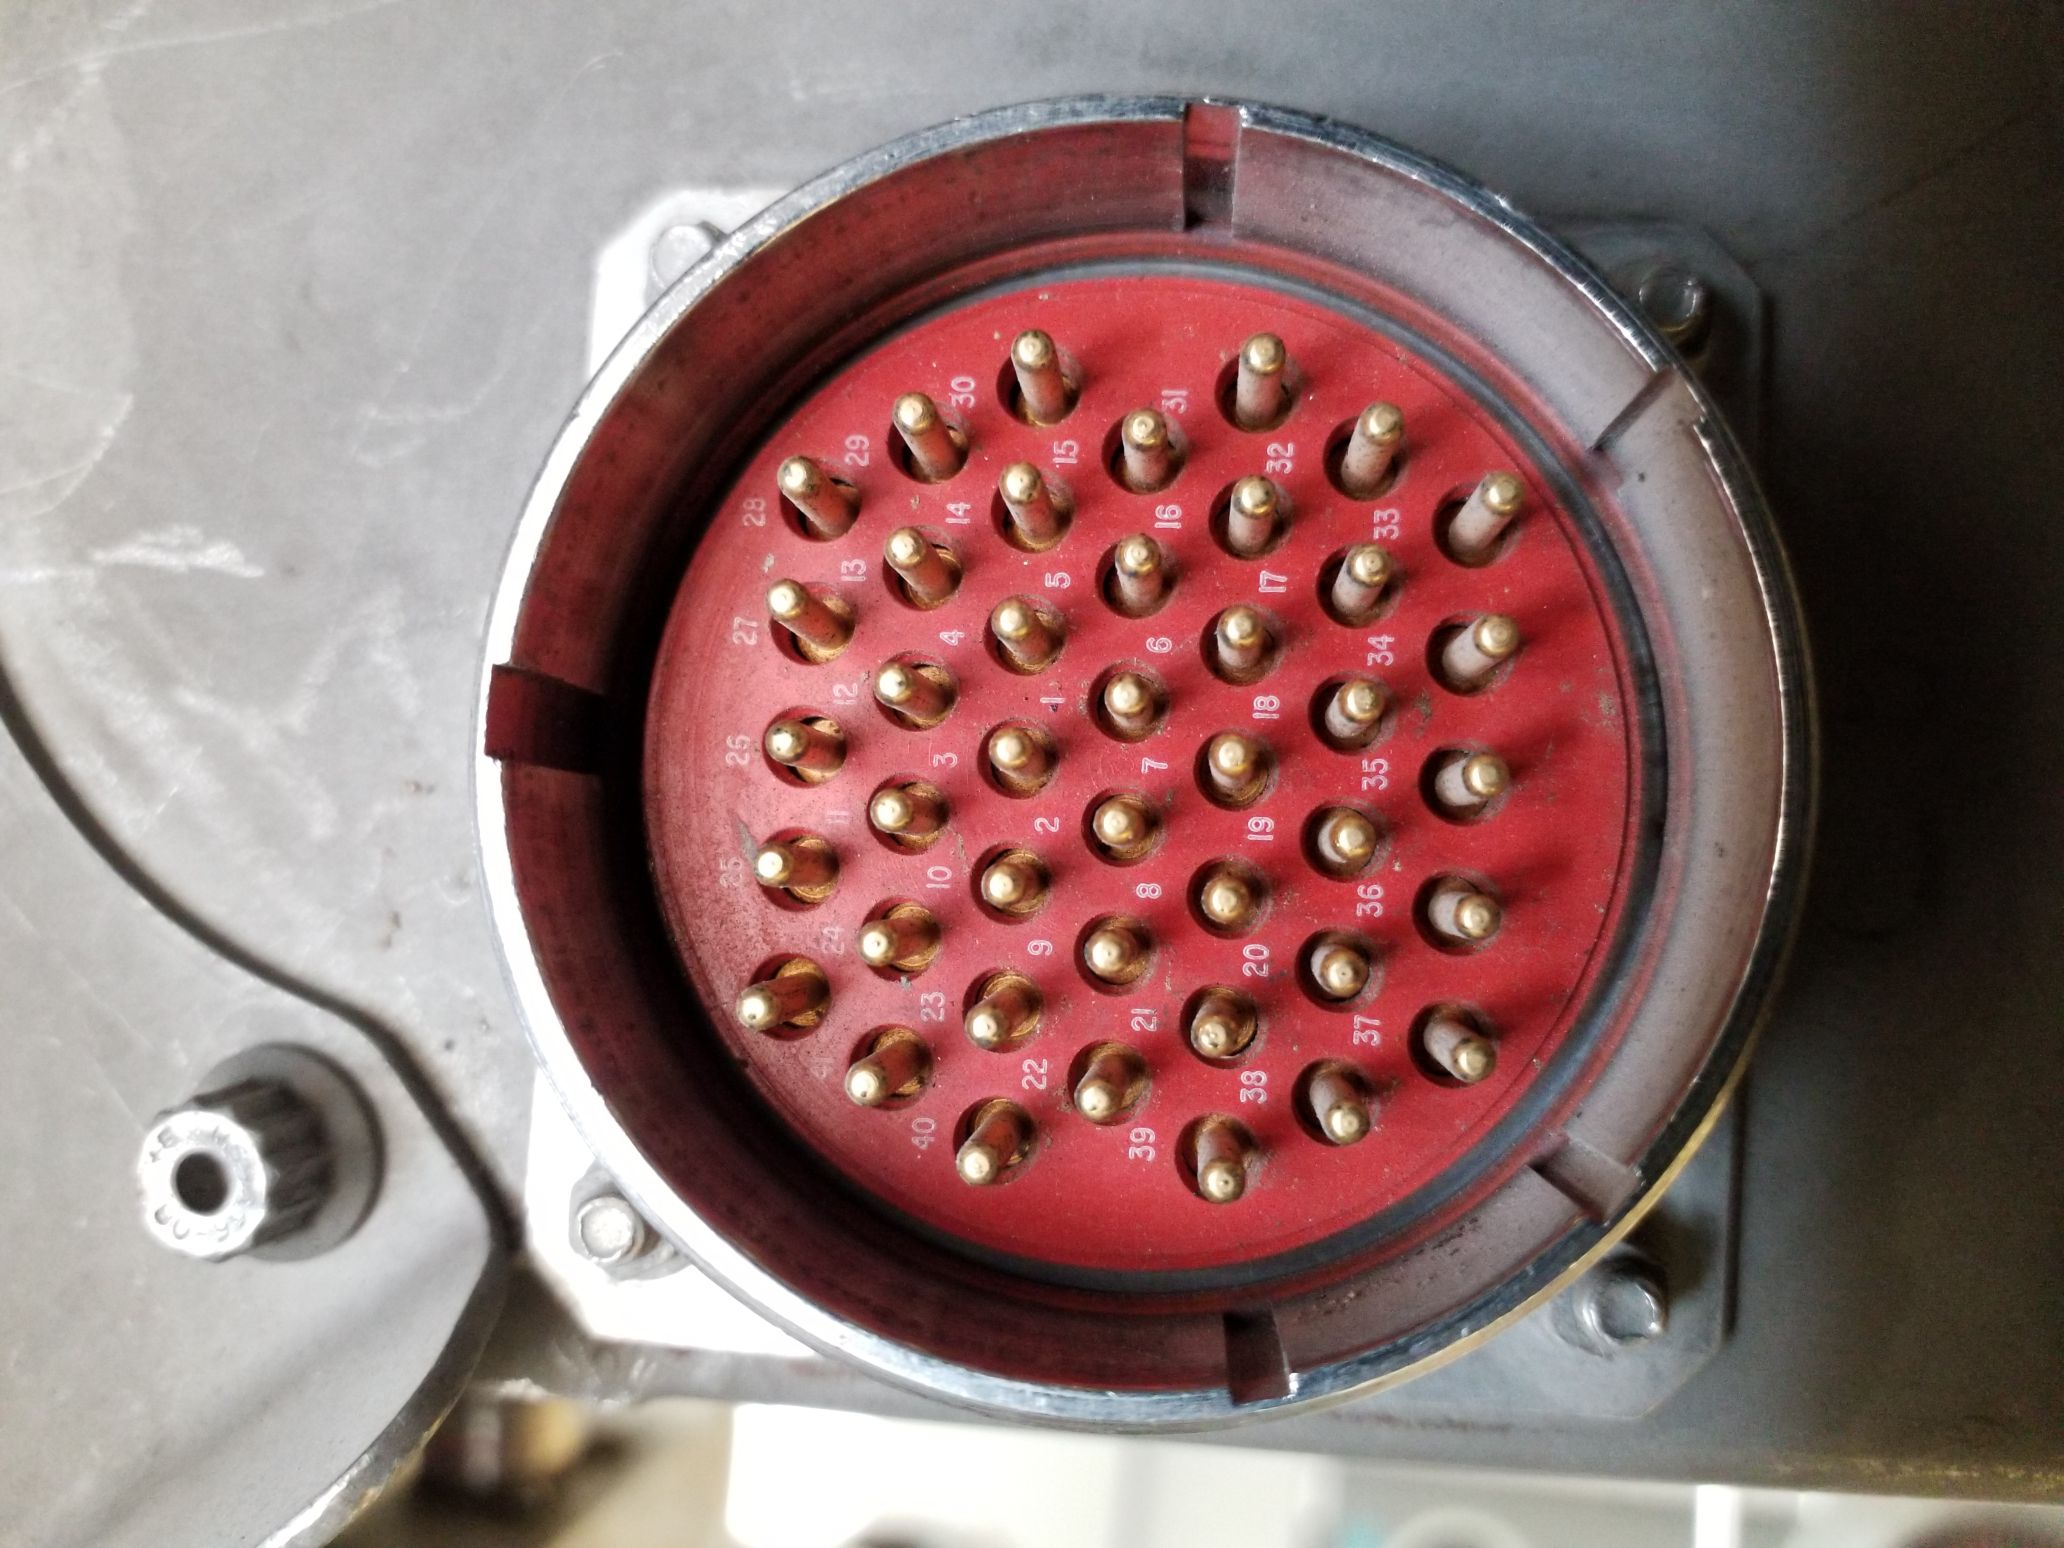outlet: (484, 72, 1810, 1420)
